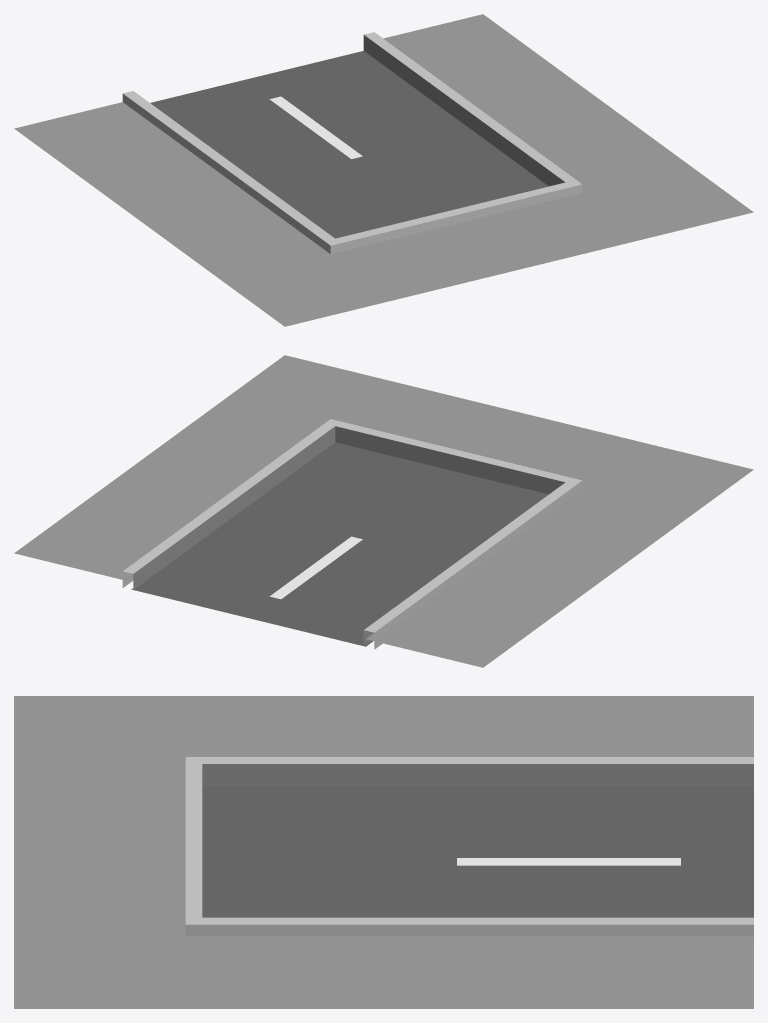
Rendered from street-end.glb.
3 renders of one model, top to bottom at view 1: azimuth 30°, elevation 25°; view 2: azimuth 150°, elevation 25°; view 3: azimuth 270°, elevation 25°, orthographic. The views are drawn at different scales.
Parts seen in each view (by area): view 1: road_tile_1x1_12; view 2: road_tile_1x1_12; view 3: road_tile_1x1_12.
Part boxes in pixels (box(x1,y1,x2,y2)): road_tile_1x1_12: box(14, 14, 753, 326); road_tile_1x1_12: box(14, 355, 753, 667); road_tile_1x1_12: box(14, 696, 753, 1008).
Bounding box in the file's own units: 8 × 0.2778 × 8.
1 material, 1 textured.
